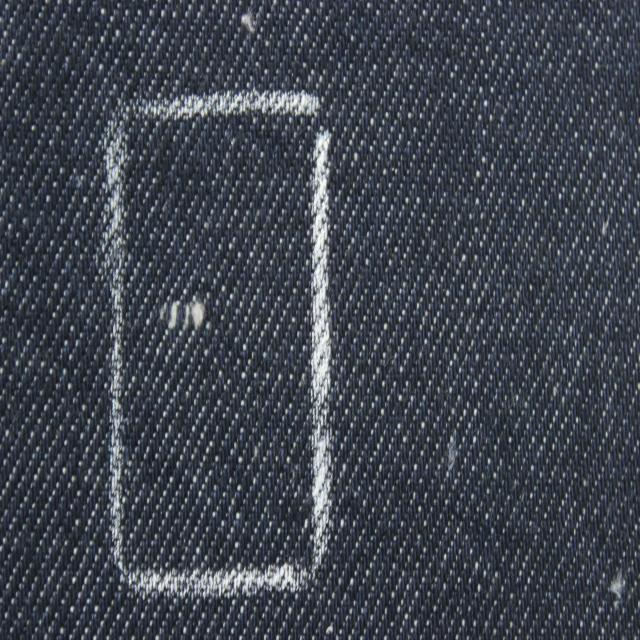pulled_or_thick_thread: (150, 292, 207, 330)
